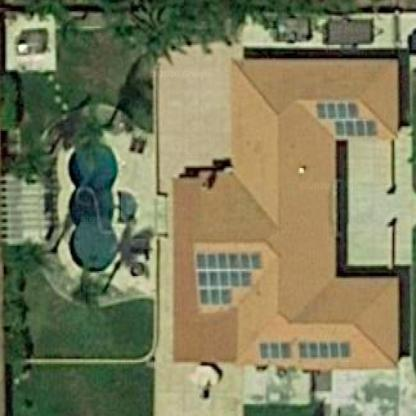solar_panel: (187, 241, 274, 315), (308, 96, 383, 149), (252, 333, 364, 364)
swimming_pool: (46, 109, 149, 287)
